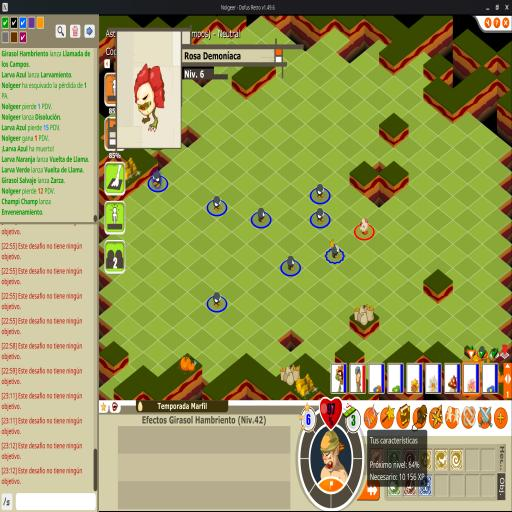Enemigos: (329, 238, 342, 260), (257, 208, 268, 224), (152, 171, 162, 188), (316, 183, 326, 200), (316, 208, 326, 224), (213, 292, 223, 308), (213, 196, 222, 212), (287, 256, 296, 272)
Personaje: (360, 218, 370, 236)
